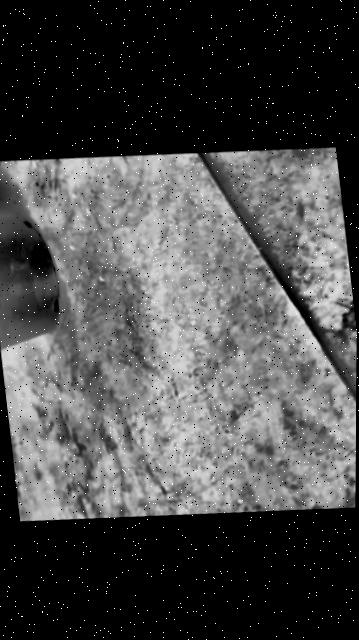pot: (0, 200, 67, 376)
